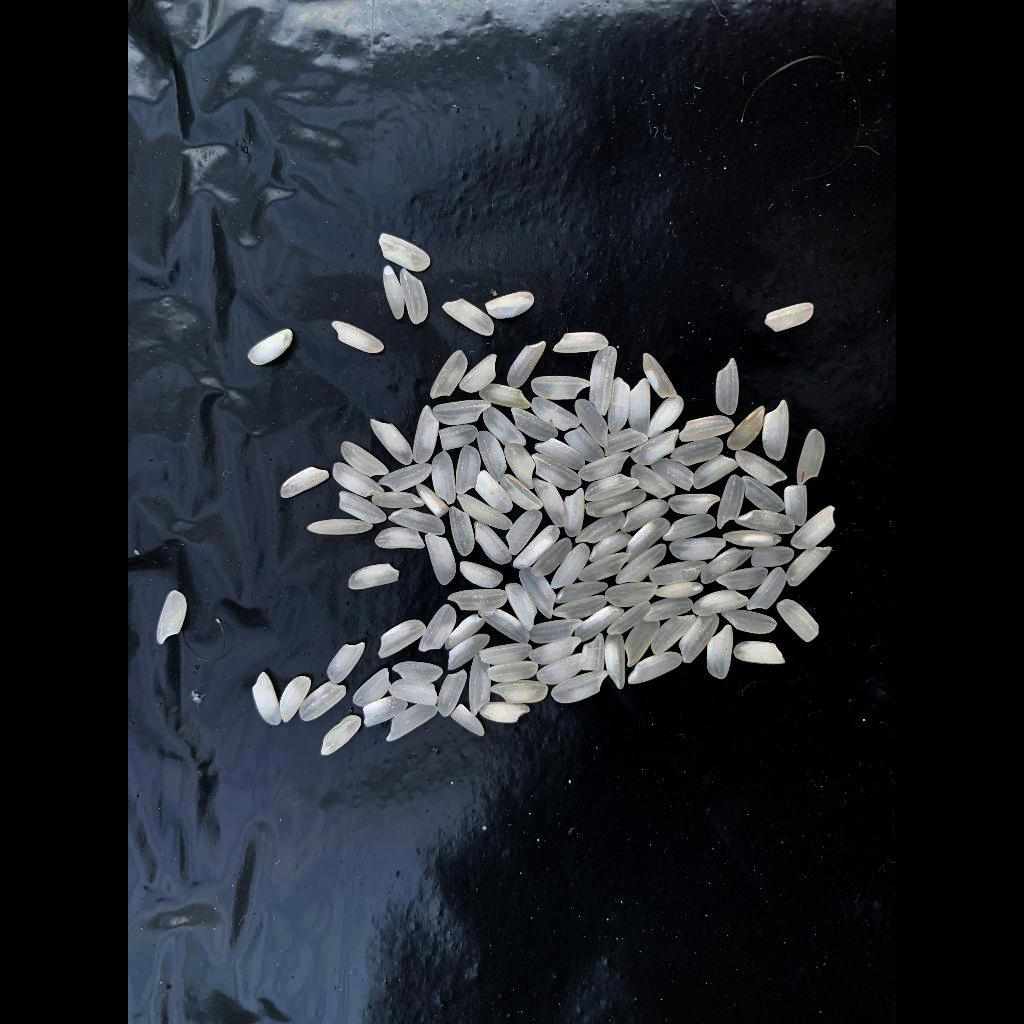rice: (379, 232, 432, 272), (515, 525, 563, 569), (617, 544, 668, 585), (627, 517, 671, 563), (458, 494, 513, 530), (371, 419, 414, 465), (443, 300, 496, 337), (681, 615, 721, 664), (591, 346, 619, 416), (431, 350, 470, 400), (552, 670, 609, 704), (792, 506, 837, 549), (509, 340, 549, 388), (301, 682, 349, 722), (701, 548, 754, 584), (387, 705, 438, 742), (380, 620, 428, 659), (737, 451, 789, 487), (420, 604, 458, 653), (533, 454, 583, 491), (788, 546, 834, 586), (520, 568, 555, 620), (779, 600, 821, 643), (485, 407, 529, 448), (576, 606, 626, 642), (629, 652, 683, 685), (586, 489, 647, 518), (653, 615, 697, 655), (480, 609, 531, 643), (334, 463, 385, 497), (628, 618, 662, 669), (632, 430, 680, 466), (249, 328, 294, 366), (553, 544, 591, 589), (342, 442, 390, 477), (748, 568, 787, 611), (475, 521, 513, 565), (729, 406, 767, 450), (533, 397, 582, 431), (282, 467, 332, 500), (333, 322, 386, 353), (448, 633, 491, 671), (535, 439, 586, 471), (513, 408, 561, 442), (507, 510, 544, 554), (743, 476, 787, 513), (158, 591, 188, 645), (650, 395, 686, 440), (576, 400, 609, 449), (579, 451, 631, 482), (643, 353, 678, 399), (322, 715, 362, 755), (577, 512, 627, 544), (535, 478, 567, 528), (532, 538, 573, 577), (477, 471, 514, 514), (427, 533, 457, 586), (340, 491, 388, 524), (537, 652, 586, 684), (799, 429, 827, 485), (620, 499, 669, 531), (254, 671, 283, 725), (380, 463, 434, 492), (695, 455, 741, 489), (764, 400, 790, 460), (329, 643, 367, 684), (402, 270, 430, 325), (389, 510, 446, 537), (672, 438, 725, 467), (507, 583, 539, 631), (631, 465, 676, 499), (587, 473, 641, 501), (479, 431, 508, 483), (415, 406, 441, 464), (502, 475, 545, 510), (719, 475, 746, 530), (680, 416, 735, 443), (460, 355, 498, 394), (355, 668, 393, 707), (579, 554, 630, 583), (565, 427, 606, 463), (281, 676, 313, 722), (766, 302, 815, 332), (652, 458, 695, 492), (664, 514, 718, 541), (694, 590, 750, 616), (650, 561, 708, 586), (434, 401, 492, 426), (439, 669, 469, 717), (736, 510, 796, 534), (530, 638, 583, 665), (608, 602, 651, 635), (506, 444, 536, 491), (709, 623, 734, 679), (723, 609, 779, 634), (480, 383, 533, 409), (446, 615, 485, 650), (590, 533, 634, 564), (554, 596, 608, 621), (532, 377, 590, 400), (350, 564, 401, 590), (449, 589, 509, 611), (717, 358, 740, 415), (451, 507, 477, 557), (487, 292, 536, 318), (606, 429, 651, 457), (553, 331, 610, 353), (670, 538, 727, 560), (531, 620, 583, 644), (734, 642, 788, 665), (461, 561, 505, 589), (434, 452, 457, 505), (457, 446, 482, 494), (492, 681, 549, 702), (630, 379, 651, 436), (610, 378, 631, 435), (607, 584, 659, 607), (606, 634, 627, 690), (391, 680, 438, 705), (393, 662, 444, 685), (643, 599, 694, 622), (480, 643, 533, 665), (717, 568, 770, 590), (556, 582, 609, 604), (451, 704, 486, 737), (384, 266, 405, 320), (488, 660, 539, 682), (419, 485, 451, 520), (308, 519, 375, 535), (376, 528, 426, 549), (670, 494, 722, 514), (441, 425, 479, 452), (480, 702, 531, 722), (566, 488, 586, 537), (786, 486, 808, 527), (752, 547, 795, 567), (373, 492, 426, 508), (585, 634, 607, 672), (655, 582, 705, 598)
